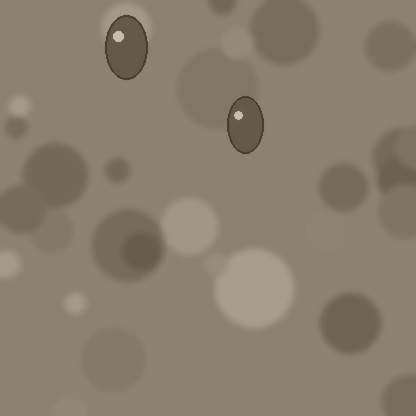gota: (105, 17, 147, 85), (227, 98, 263, 158)
